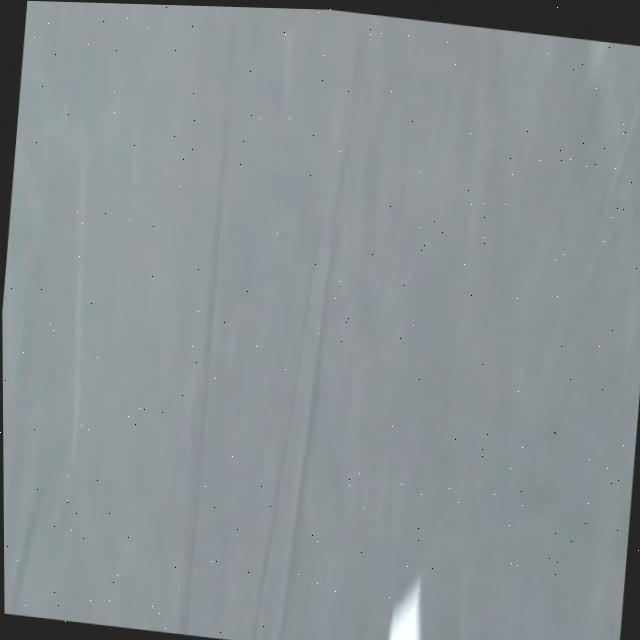center: (389, 578, 420, 640)
